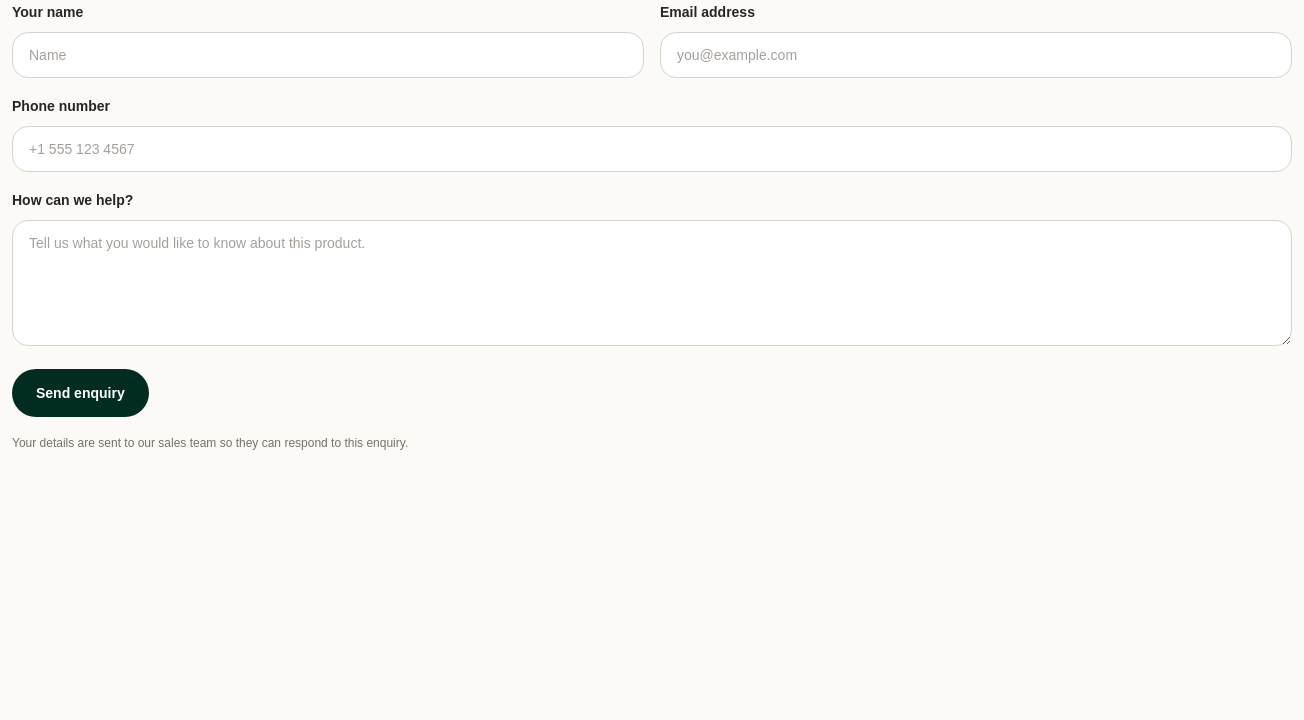
it: EnquiryFormFeature › validates the customer fields before sending a request
This screenshot has width=1304, height=720.
Click the button "Send enquiry": {"x": 80, "y": 393} [12,369,149,417]
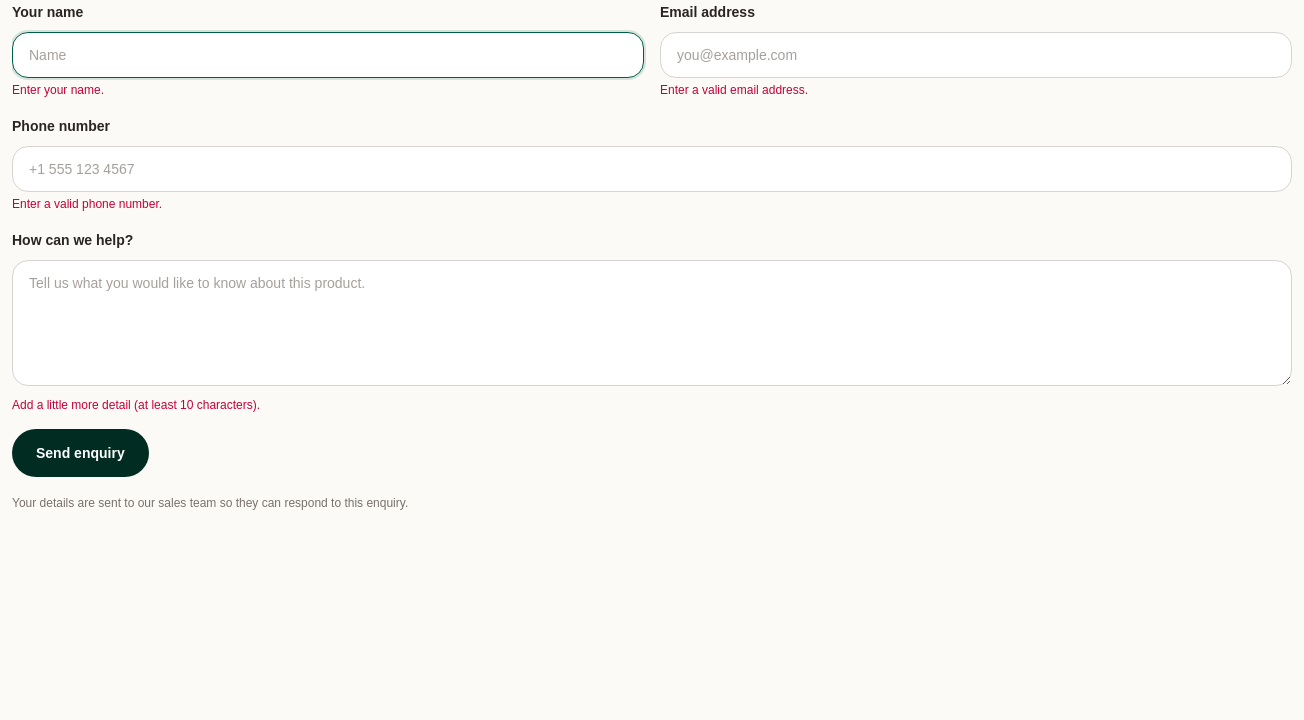
Check: the text "Enter your name." is shown, box [12,83,104,97]
Check: the text "Enter a valid email address." is shown, box [660,83,808,97]
Check: the text "Enter a valid phone number." is shown, box [12,197,162,211]
